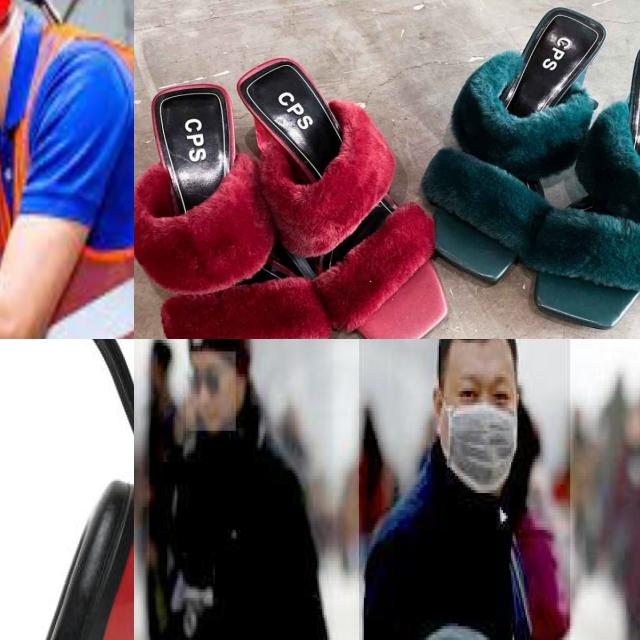Ear-protection: (0, 339, 134, 640)
No_Glasses: (444, 356, 518, 412)
Sandals: (134, 8, 468, 339), (411, 0, 640, 339)
face_mask: (440, 368, 520, 493)
face_nomask: (186, 352, 238, 434)
glasses: (186, 364, 225, 401)
head_nohelmet: (440, 339, 528, 368)
person: (359, 339, 572, 640), (149, 339, 334, 640)
